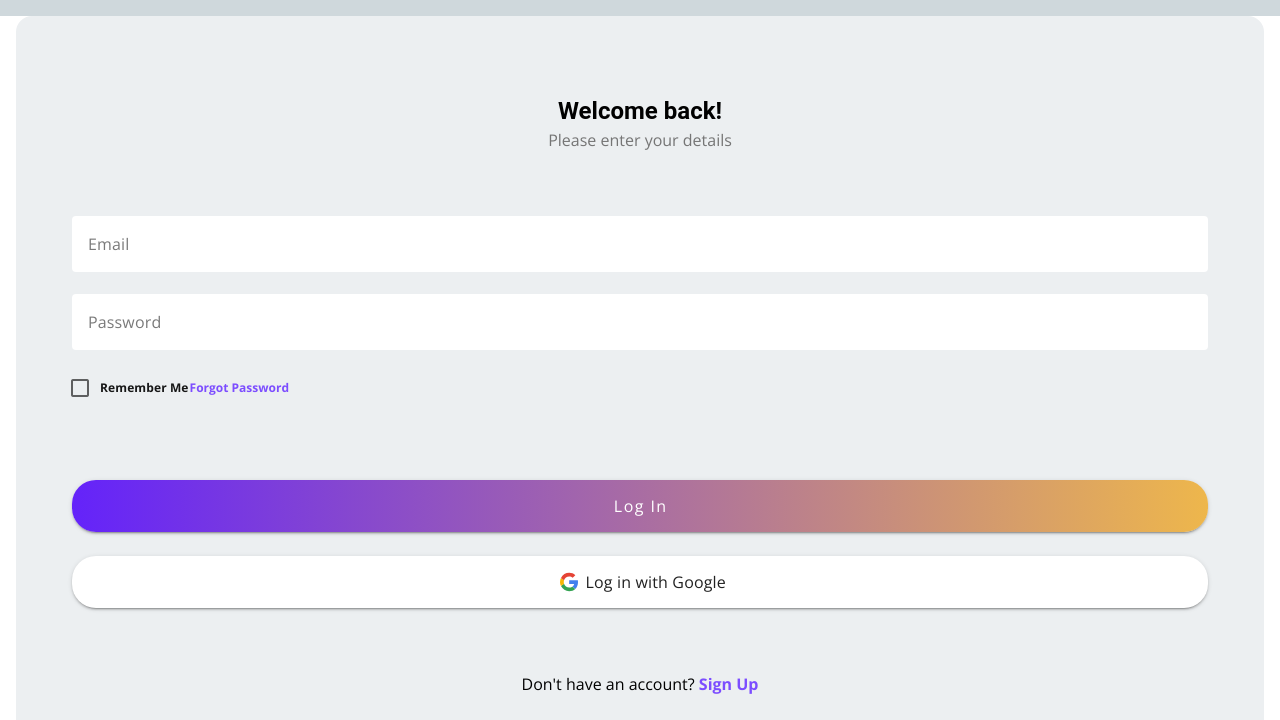
Test: LoginForm › Functionality › Email Input › should show an error for an invalid email format
Replace the text in the field labelled "Email" with "invalidEmail": (109, 244) left=88, top=233, right=129, bottom=255
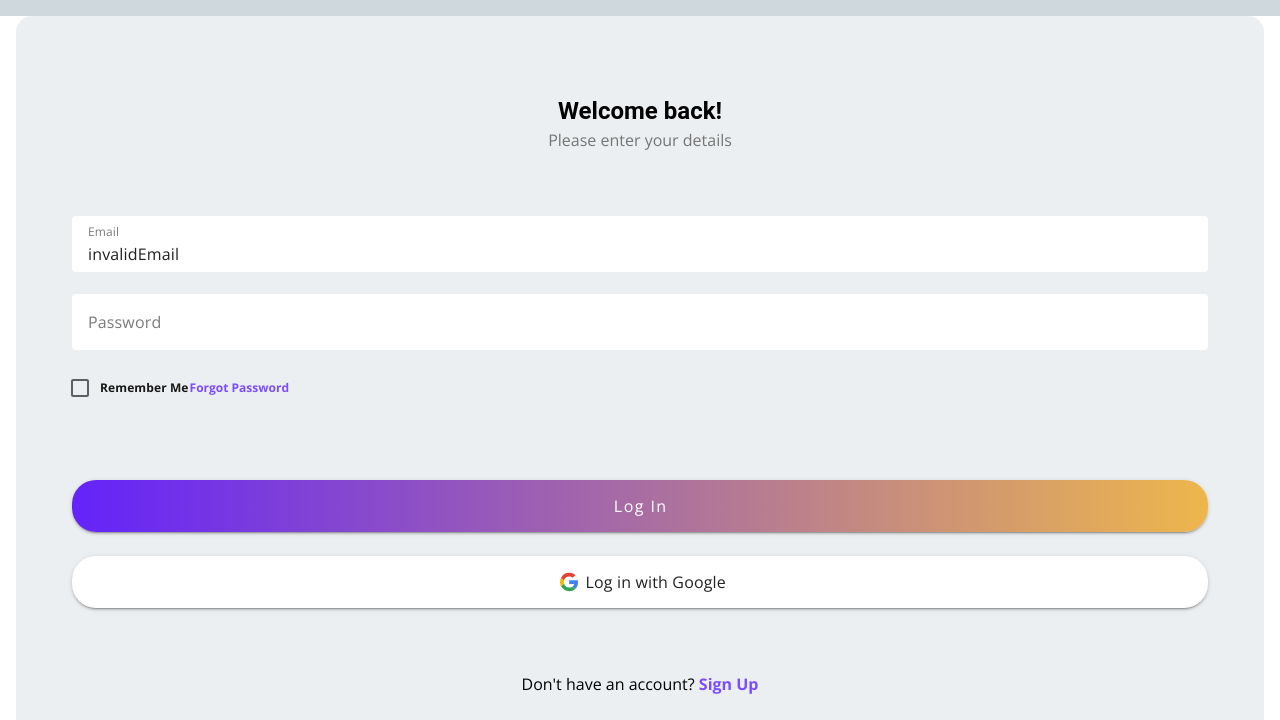
Leave the field labelled "Email", box left=72, top=216, right=1208, bottom=272
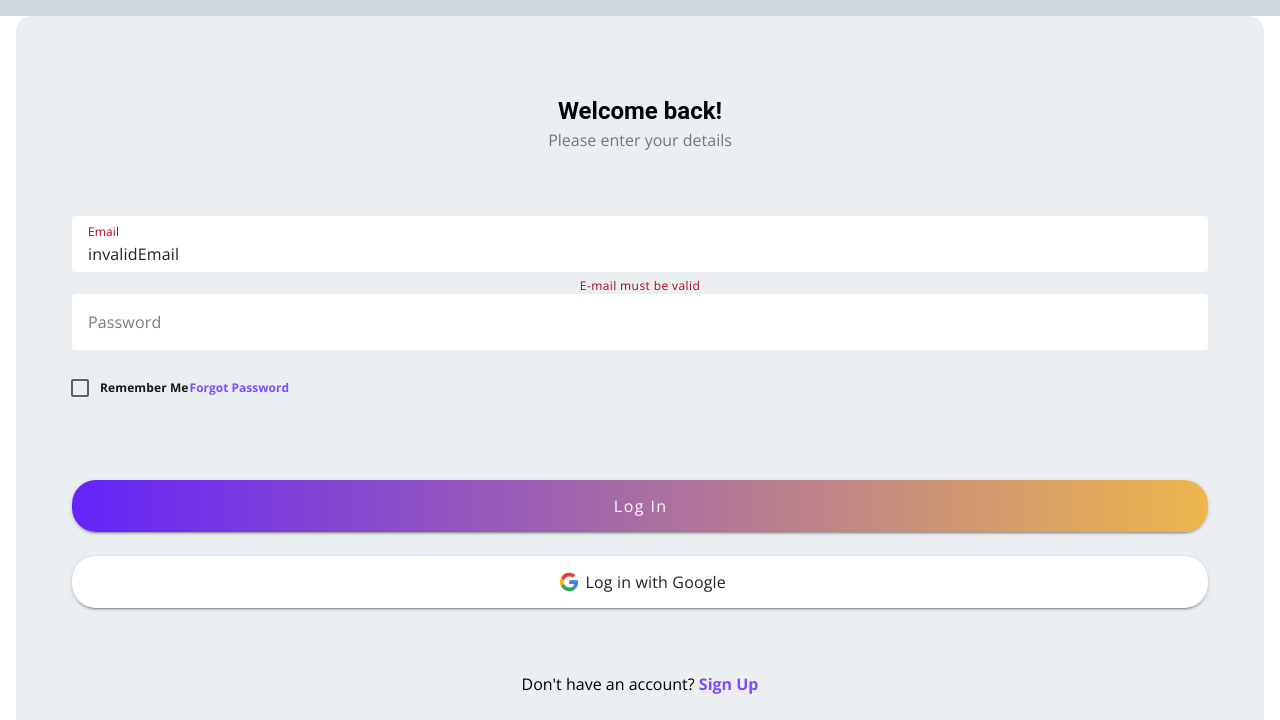
Check: the message with id "email-messages" reads "E-mail must be valid", box left=580, top=277, right=700, bottom=294
